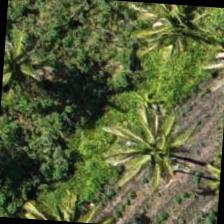Kelapa_Sawit: (107, 106, 203, 202), (130, 2, 224, 69)
